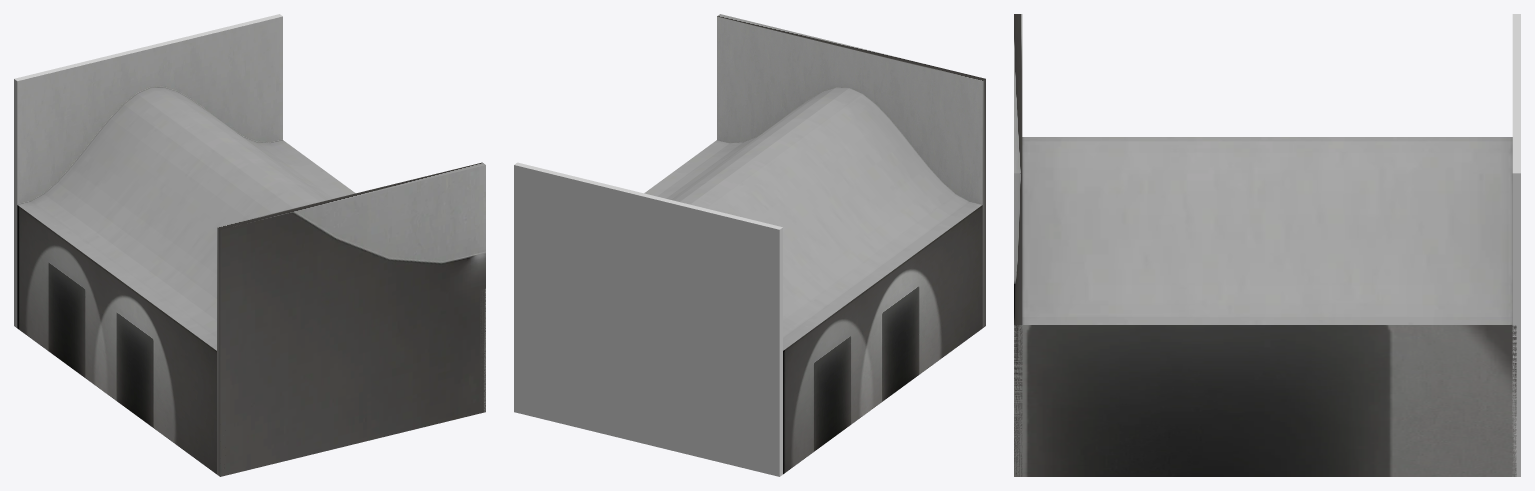
File: gallery.glb
3 renders of one model, left to right at view 1: azimuth 30°, elevation 25°; view 2: azimuth 150°, elevation 25°; view 3: azimuth 270°, elevation 25°, orthographic. The views are drawn at different scales.
Parts seen in each view (by area): view 1: Wall_south, Ceiling, Wall_west, Wall_north, Wall_east; view 2: Wall_north, Ceiling, Wall_west, Wall_south; view 3: Ceiling, Wall_east, Wall_north, Wall_south.
Part boxes in pixels (x1,y1,x2,y2): Wall_south: (217,162,485,476); Ceiling: (18,87,355,350); Wall_west: (17,205,216,473); Wall_north: (14,14,282,327); Wall_east: (480,288,485,413); Wall_north: (514,162,782,476); Ceiling: (644,87,981,350); Wall_west: (783,205,982,473); Wall_south: (717,14,985,327); Ceiling: (1022,137,1512,324); Wall_east: (1014,325,1516,476); Wall_north: (1512,14,1520,476); Wall_south: (1014,14,1022,476).
Size of the model in its own units: 9 by 8 by 12.1.
16 materials, 13 textured.
